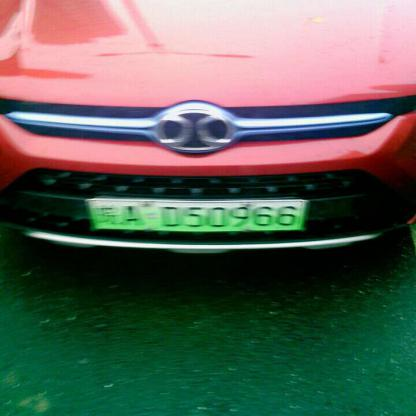lp: (82, 200, 308, 230)
